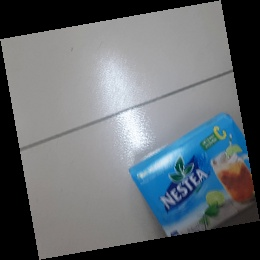Nestea: (127, 112, 260, 239)
